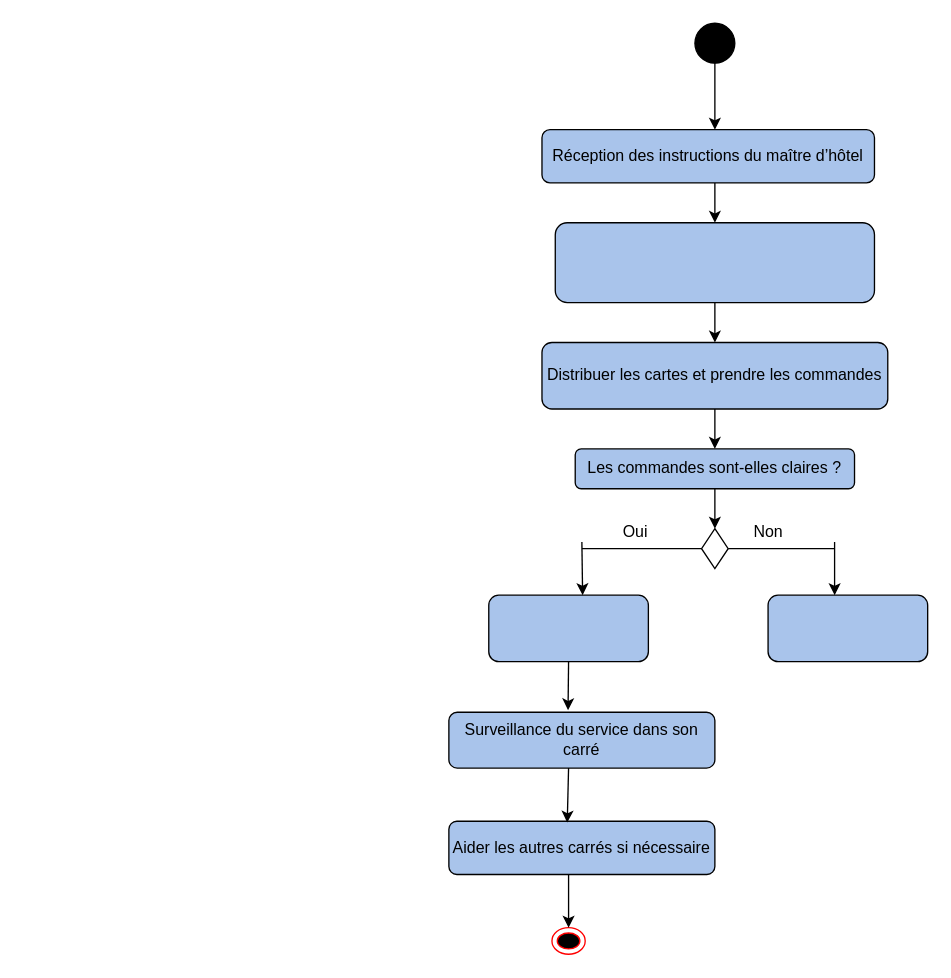
Image size: 951x978. Some labels were removed from this diagram. The centre of each missing label's shape, as x and y in pixels:
"Accompagner les clients à leurs tables" belongs at pixel 714 262.
"Clarification auprès des clients" belongs at pixel 847 628.
"Transmission des commandes à la cuisine" belongs at pixel 567 628.
